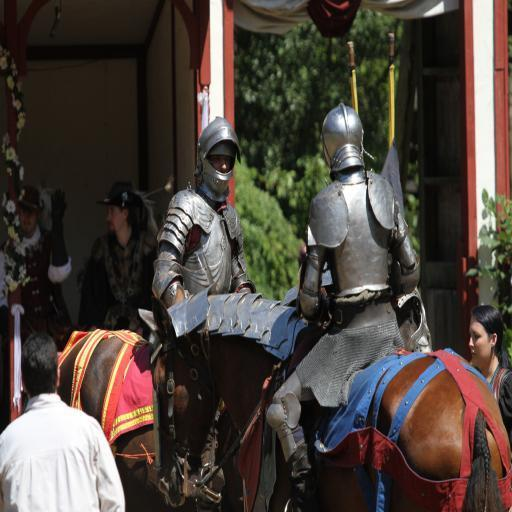horse: (150, 284, 511, 512), (54, 330, 167, 512)
